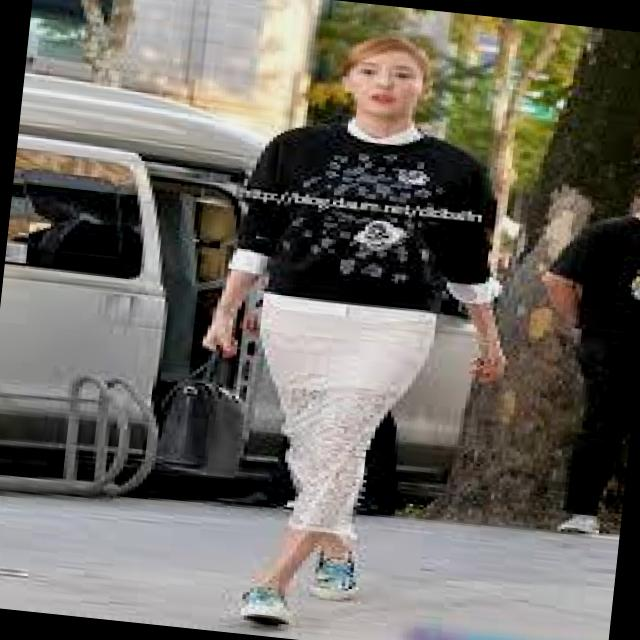skirt: (230, 272, 446, 560)
sweater: (222, 112, 518, 322)
